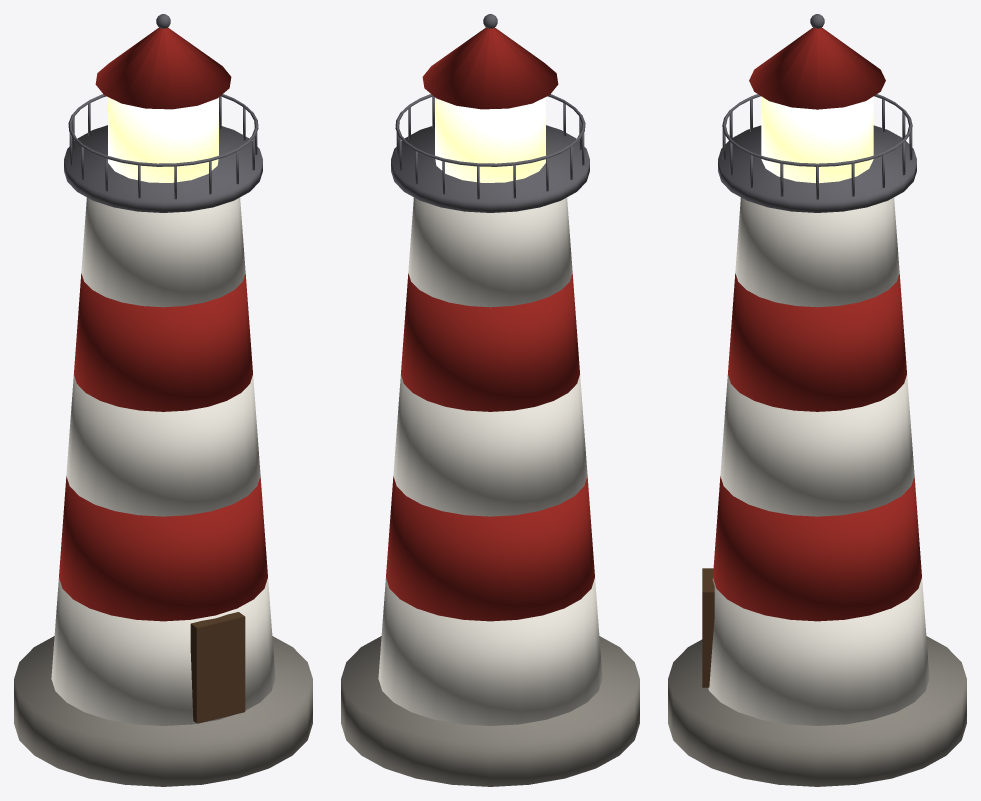
Rendered from leuchtturm.glb.
3 views of the same model, side by side, from view 1: azimuth 30°, elevation 25°; view 2: azimuth 150°, elevation 25°; view 3: azimuth 270°, elevation 25° (orthographic).
Visible parts, largest first — view 1: d; view 2: d; view 3: d.
Boxes of the visible parts, x1,y1,x2,y2 form: d: (14, 14, 312, 786); d: (341, 14, 639, 786); d: (668, 14, 966, 786).
Bounding box in the file's own units: 4.8 × 12.57 × 4.8.
